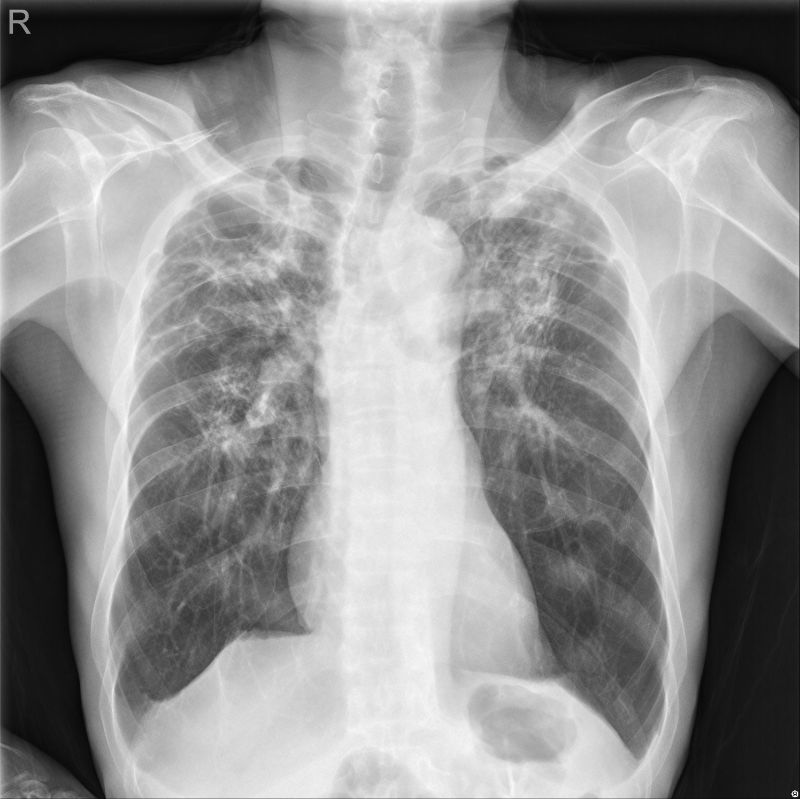Tuberculosis: (139, 180, 315, 459), (469, 204, 596, 437)
